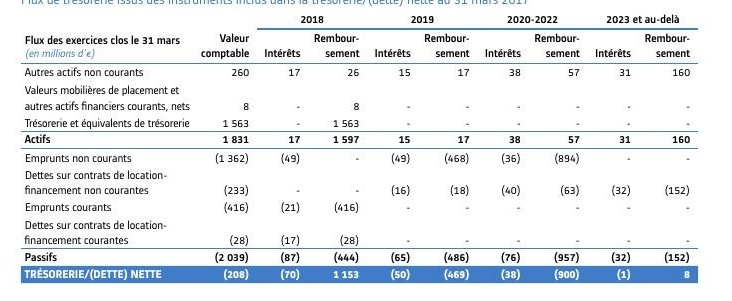table: (0, 0, 732, 301)
